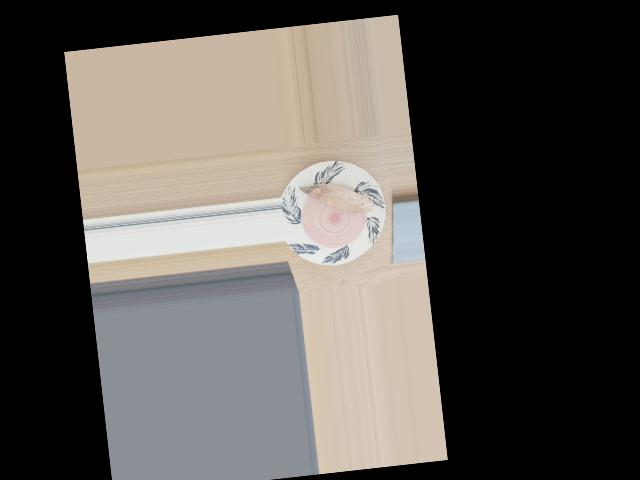sweet_potato: (306, 178, 369, 221)
